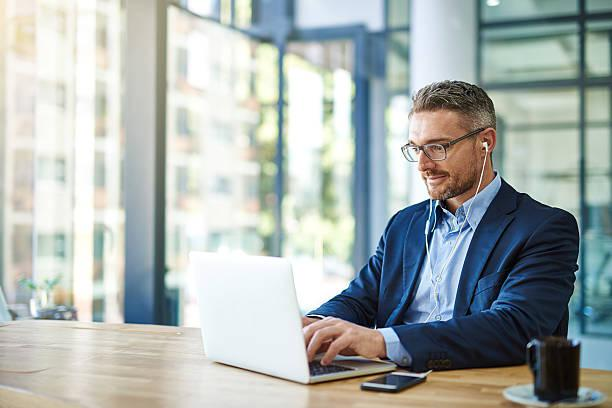headphone: (420, 136, 496, 265)
